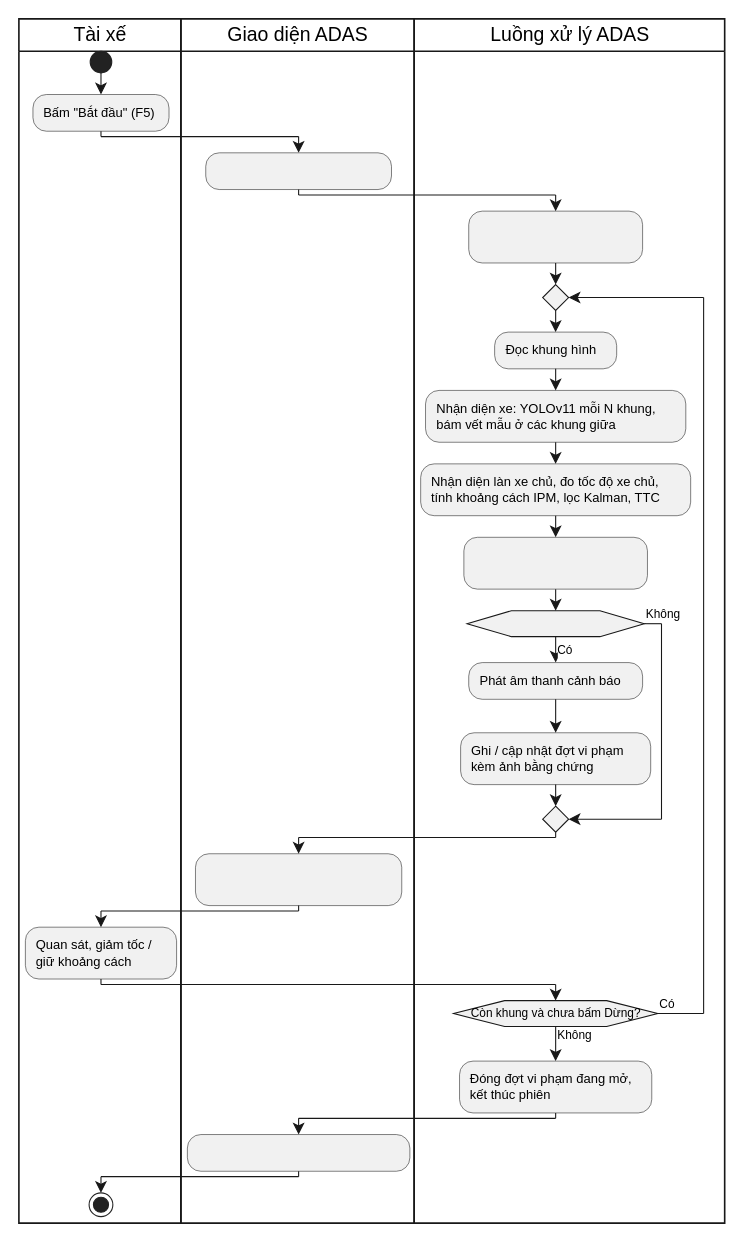
Some shapes in this 744 by 1243 pixel diagram are drawn without their labels. Here are the shapes that lost their labels. From the top down, the centre of each, then its label:
the point at 298,170: Khởi động luồng xử lý nền
the point at 555,236: Mở nguồn, tải YOLOv11, mở phiên giám sát
the point at 555,563: So với ngưỡng theo tốc độ và điều kiện đường
the point at 555,623: Có cảnh báo / nguy hiểm?
the point at 298,879: Hiển thị khung màu, banner, BEV, thẻ trạng thái
the point at 298,1152: Báo số vi phạm đã ghi vào CSDL
